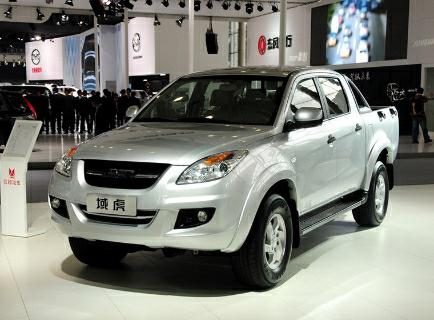江铃-域虎: (39, 63, 407, 289)
